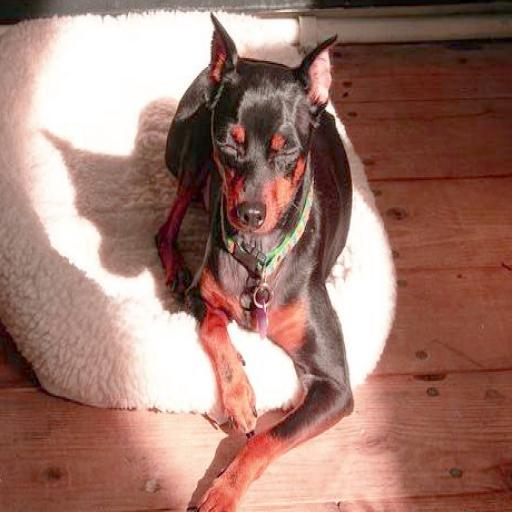dog_face: (199, 15, 350, 253)
